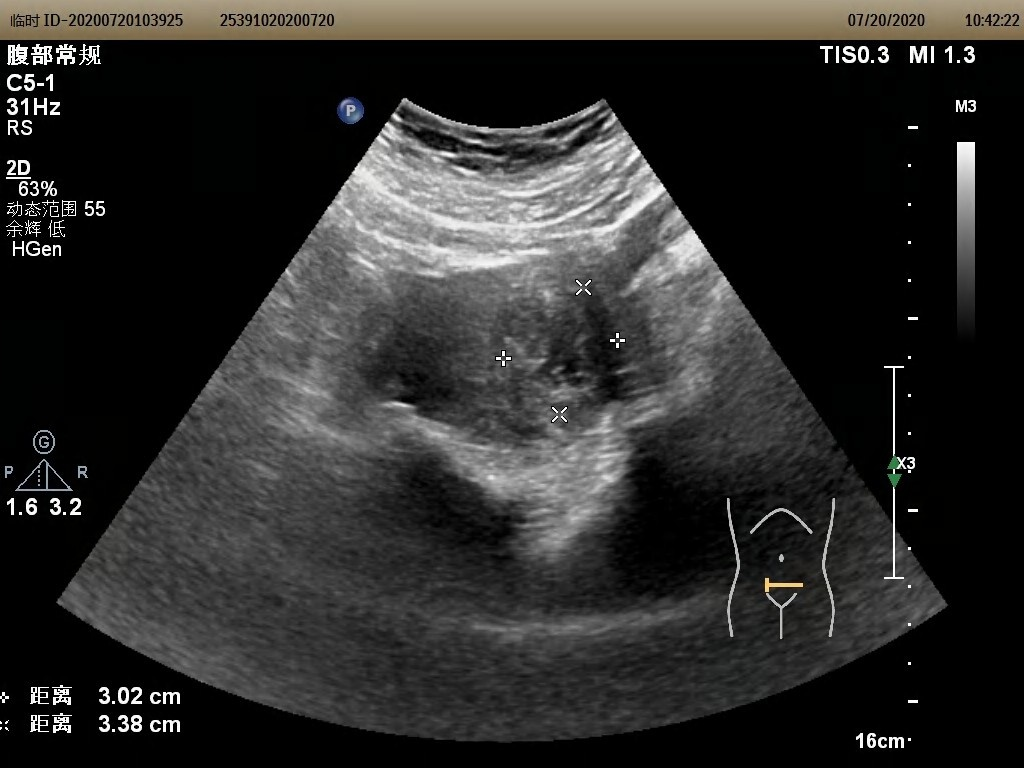肌瘤: (503, 296, 619, 409)
